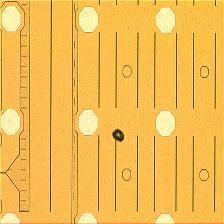PARTICLE: (111, 129, 127, 145)
